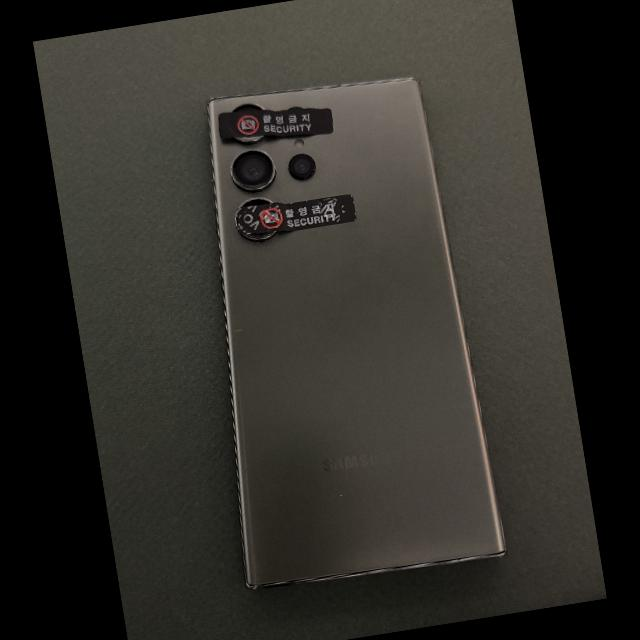lens: (232, 150, 273, 188), (239, 198, 272, 208), (231, 103, 264, 112), (288, 106, 303, 109)
phone: (209, 79, 505, 587)
sticker: (237, 194, 357, 235), (219, 107, 334, 139)
